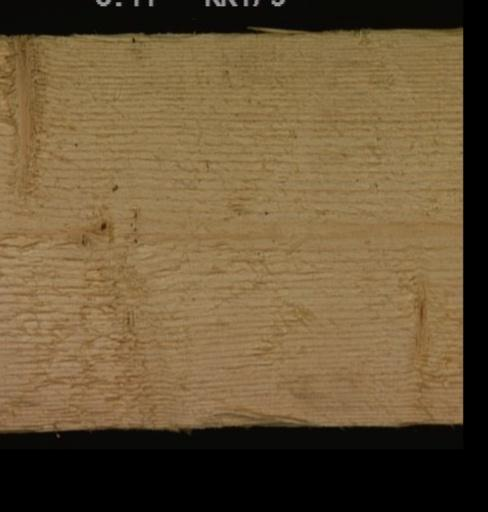small_knot: (94, 215, 114, 233), (76, 230, 89, 248)
wave: (205, 400, 319, 425)
